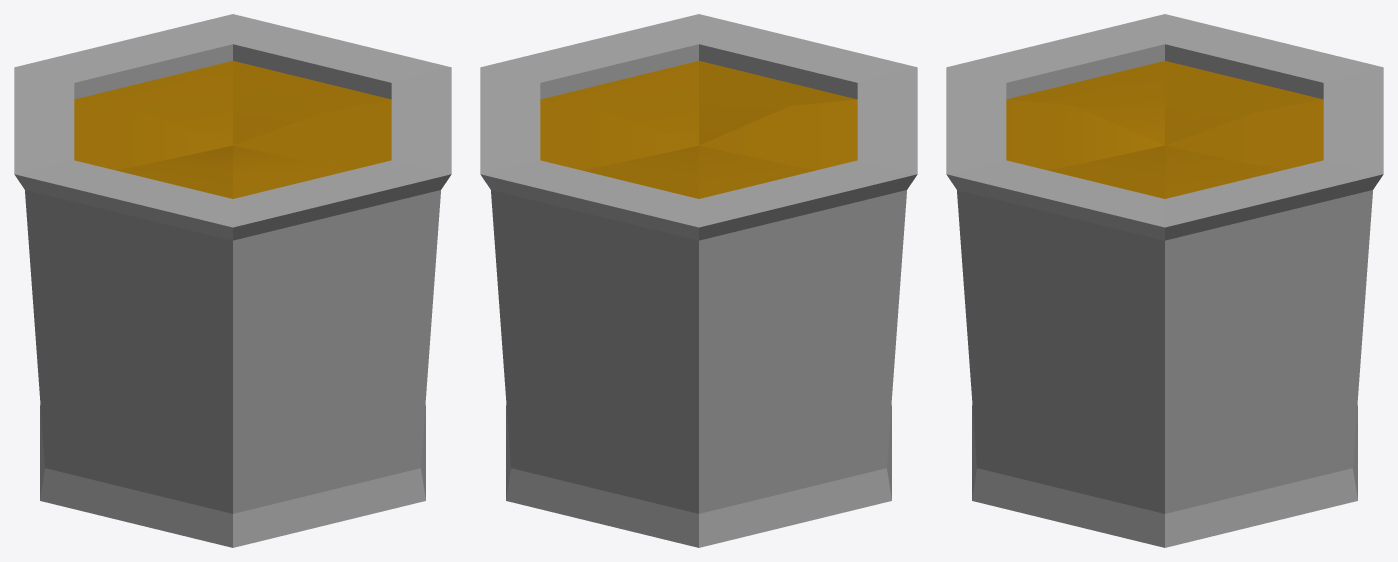
Rendered from Plant_4.fbx.
3 views of the same model, side by side, from view 1: azimuth 30°, elevation 25°; view 2: azimuth 150°, elevation 25°; view 3: azimuth 270°, elevation 25° (orthographic).
Parts seen in each view (by area): view 1: pCylinder4; view 2: pCylinder4; view 3: pCylinder4.
Part boxes in pixels (bbox=[...]): pCylinder4: bbox=[14, 14, 451, 547]; pCylinder4: bbox=[480, 14, 917, 547]; pCylinder4: bbox=[946, 14, 1383, 547].
Bounding box in the file's own units: 1.38 × 1 × 1.19.
